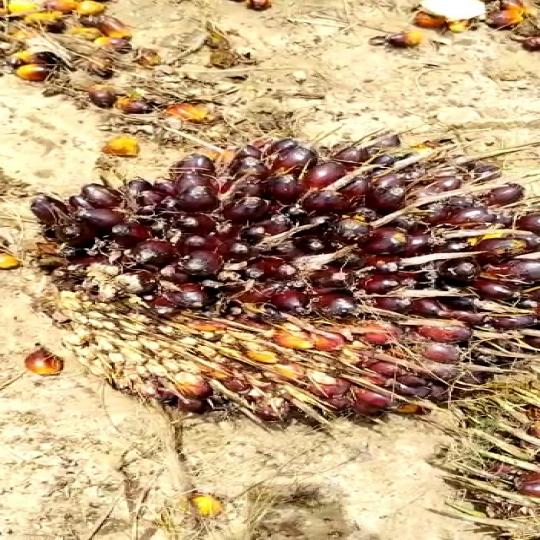mentah: (25, 130, 540, 432)
